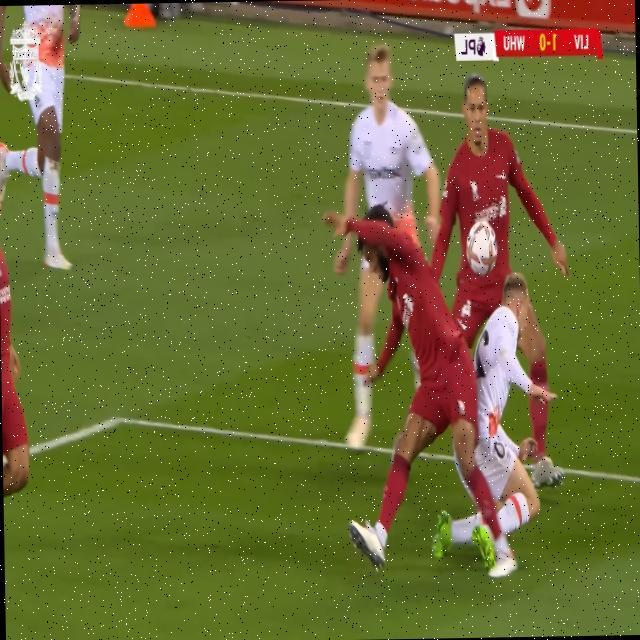Nike: (456, 317, 467, 331), (495, 170, 506, 179)
Standard Chartered: (473, 195, 506, 226), (402, 292, 414, 316)
